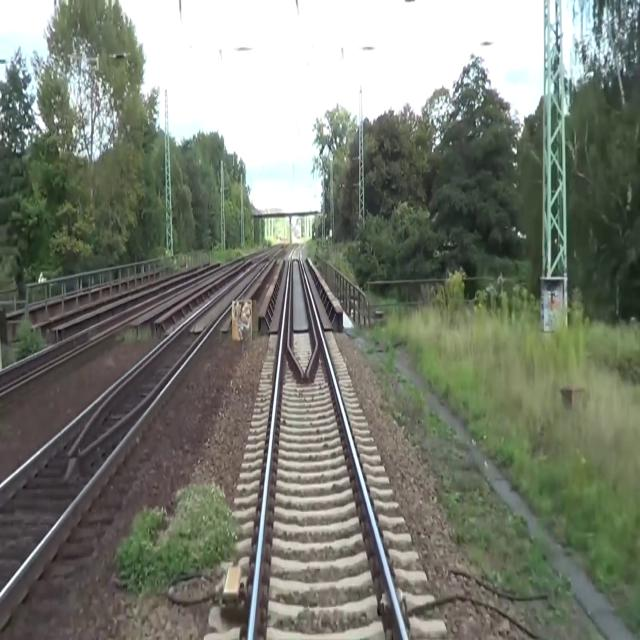rail-track: (0, 260, 267, 590), (252, 245, 404, 639), (0, 252, 256, 386), (268, 249, 280, 260)
